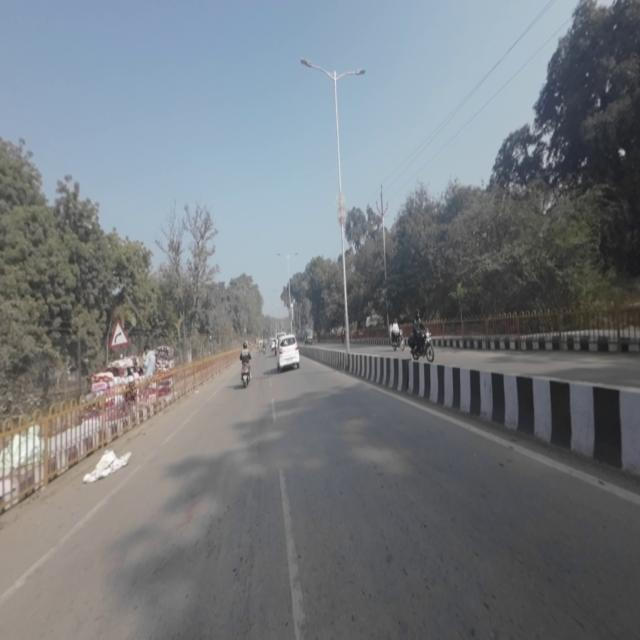Garbage: (80, 441, 134, 484)
